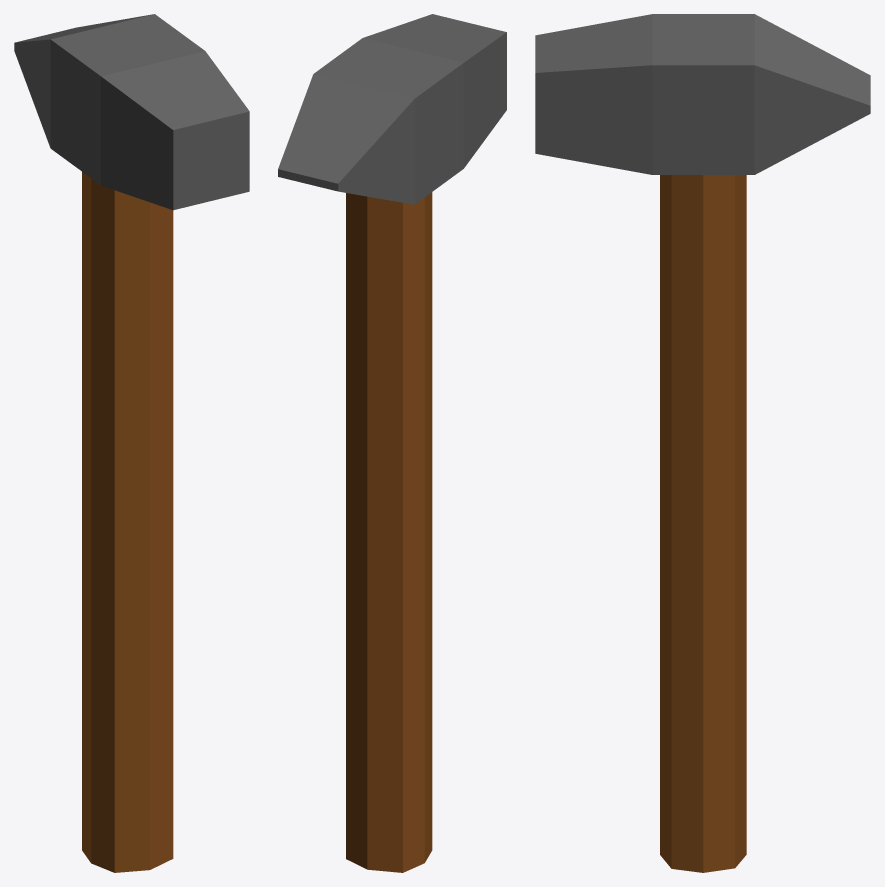
File: Hammer.fbx
3 renders of one model, left to right at view 1: azimuth 30°, elevation 25°; view 2: azimuth 150°, elevation 25°; view 3: azimuth 270°, elevation 25°, orthographic. The views are drawn at different scales.
Visible parts, largest first — view 1: Hammer_handle, Hammer_head; view 2: Hammer_handle, Hammer_head; view 3: Hammer_handle, Hammer_head.
Boxes of the visible parts, x1,y1,x2,y2 form: Hammer_handle: (82, 172, 173, 872); Hammer_head: (14, 14, 249, 210); Hammer_handle: (346, 192, 432, 872); Hammer_head: (278, 14, 506, 204); Hammer_handle: (660, 175, 746, 872); Hammer_head: (535, 14, 870, 174).
Size of the model in its own units: 6.99 by 51.8 by 19.3.
